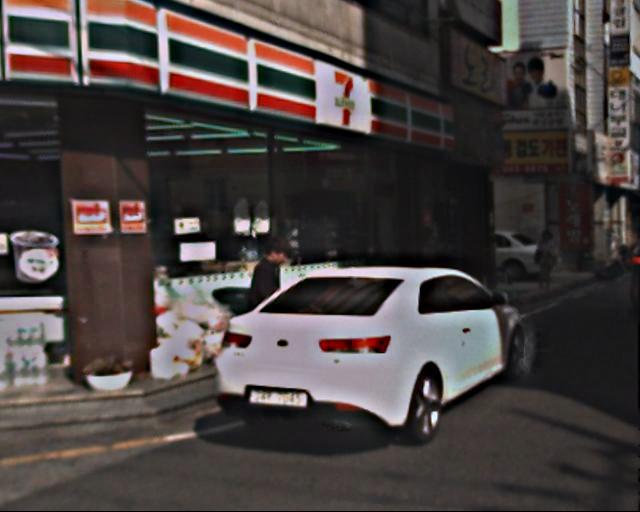person: (249, 231, 306, 372), (532, 225, 571, 297)
